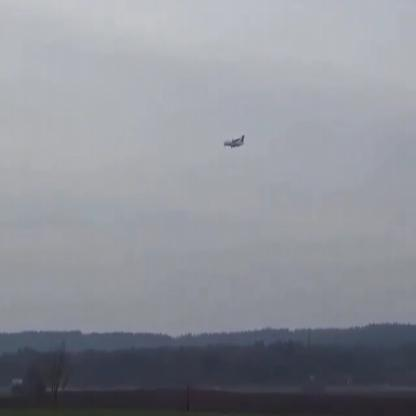CIV_Plane: (224, 136, 245, 150)
